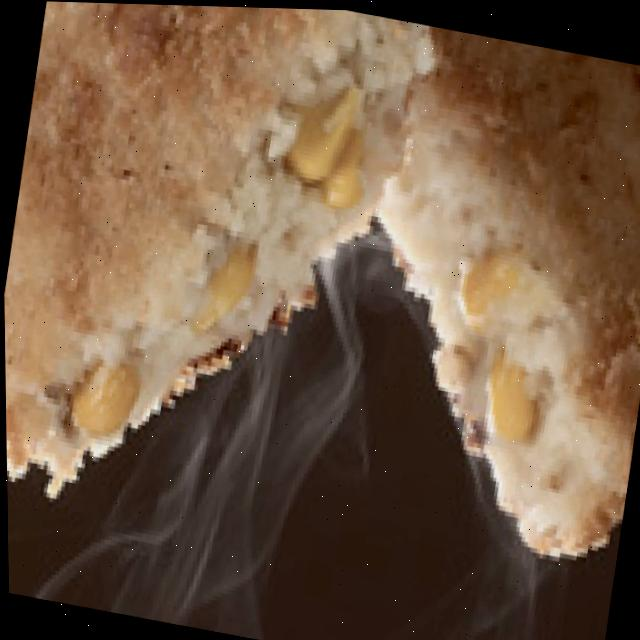炸货点心: (0, 0, 640, 464)
